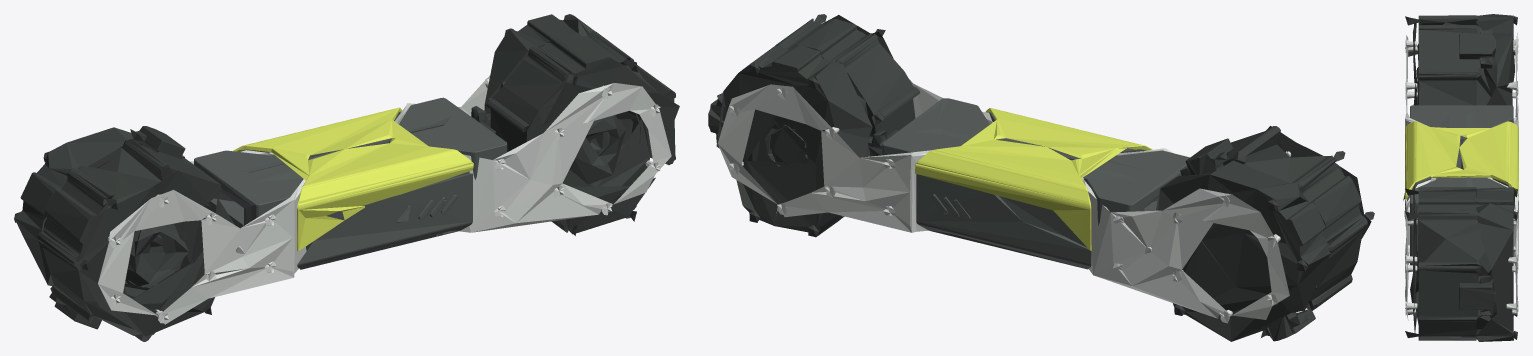
3 views of the same model, side by side, from view 1: azimuth 30°, elevation 25°; view 2: azimuth 150°, elevation 25°; view 3: azimuth 270°, elevation 25° (orthographic). The views are drawn at different scales.
Parts seen in each view (by area): view 1: motor_2_3, cnc2, pla2_black, pla2_green; view 2: motor_2_3, cnc2, pla2_black, pla2_green; view 3: motor_2_3, pla2_green, pla2_black, cnc2.
Part boxes in pixels (x1,y1,x2,y2): motor_2_3: (14,14,679,341); cnc2: (98,75,671,324); pla2_black: (194,97,507,269); pla2_green: (232,107,473,251); motor_2_3: (708,14,1374,341); cnc2: (717,79,1290,323); pla2_black: (882,98,1189,269); pla2_green: (915,108,1153,250); motor_2_3: (1405,14,1517,341); pla2_green: (1405,121,1518,199); pla2_black: (1403,105,1518,265); cnc2: (1405,33,1518,320).
Size of the model in its own units: 0.3272 by 0.0886 by 0.0666.
